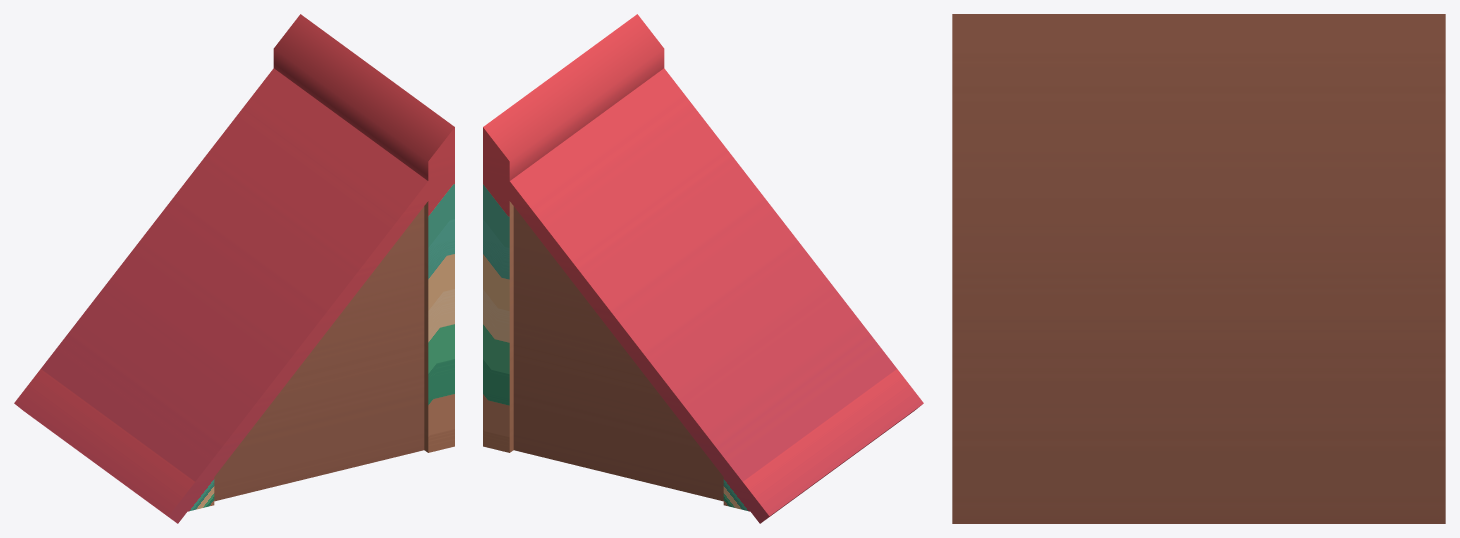
Rendered from roof-high.fbx.
3 views of the same model, side by side, from view 1: azimuth 30°, elevation 25°; view 2: azimuth 150°, elevation 25°; view 3: azimuth 270°, elevation 25° (orthographic). The views are drawn at different scales.
Parts seen in each view (by area): view 1: roof-high; view 2: roof-high; view 3: roof-high.
Part boxes in pixels (x1,y1,x2,y2): roof-high: (14,14,454,523); roof-high: (483,14,923,523); roof-high: (952,14,1445,523).
Size of the model in its own units: 107 by 118 by 100.
Materials: 1 (1 with a texture image).
